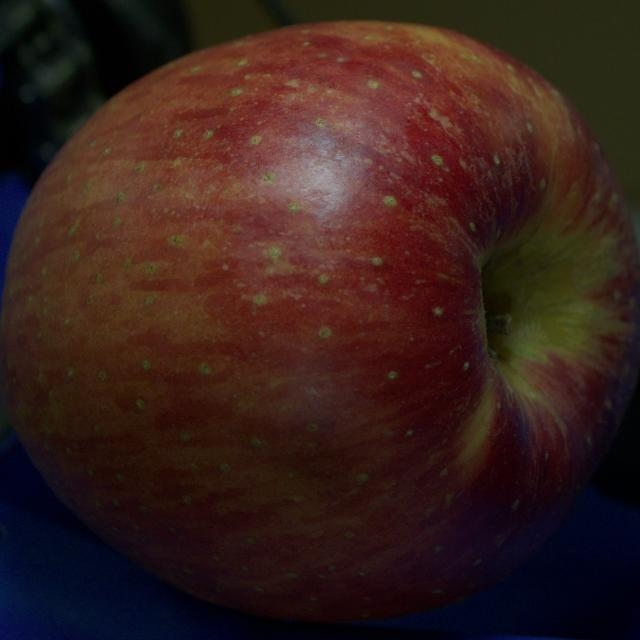apple: (0, 22, 639, 621)
